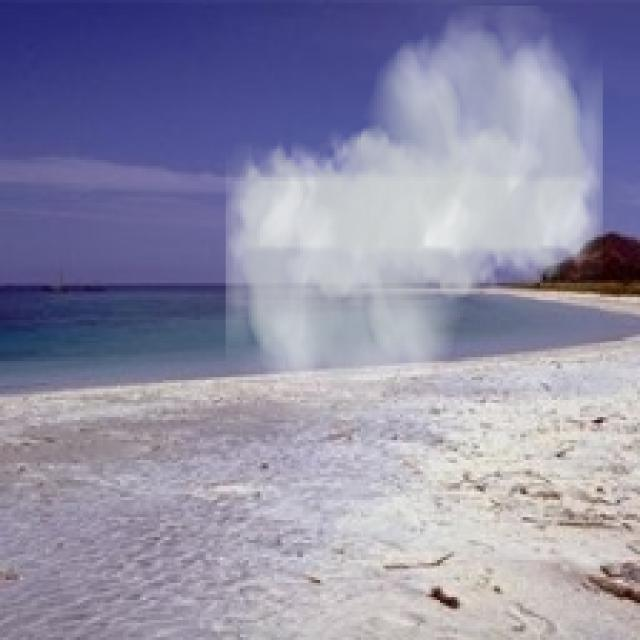smoke: (226, 6, 603, 420)
